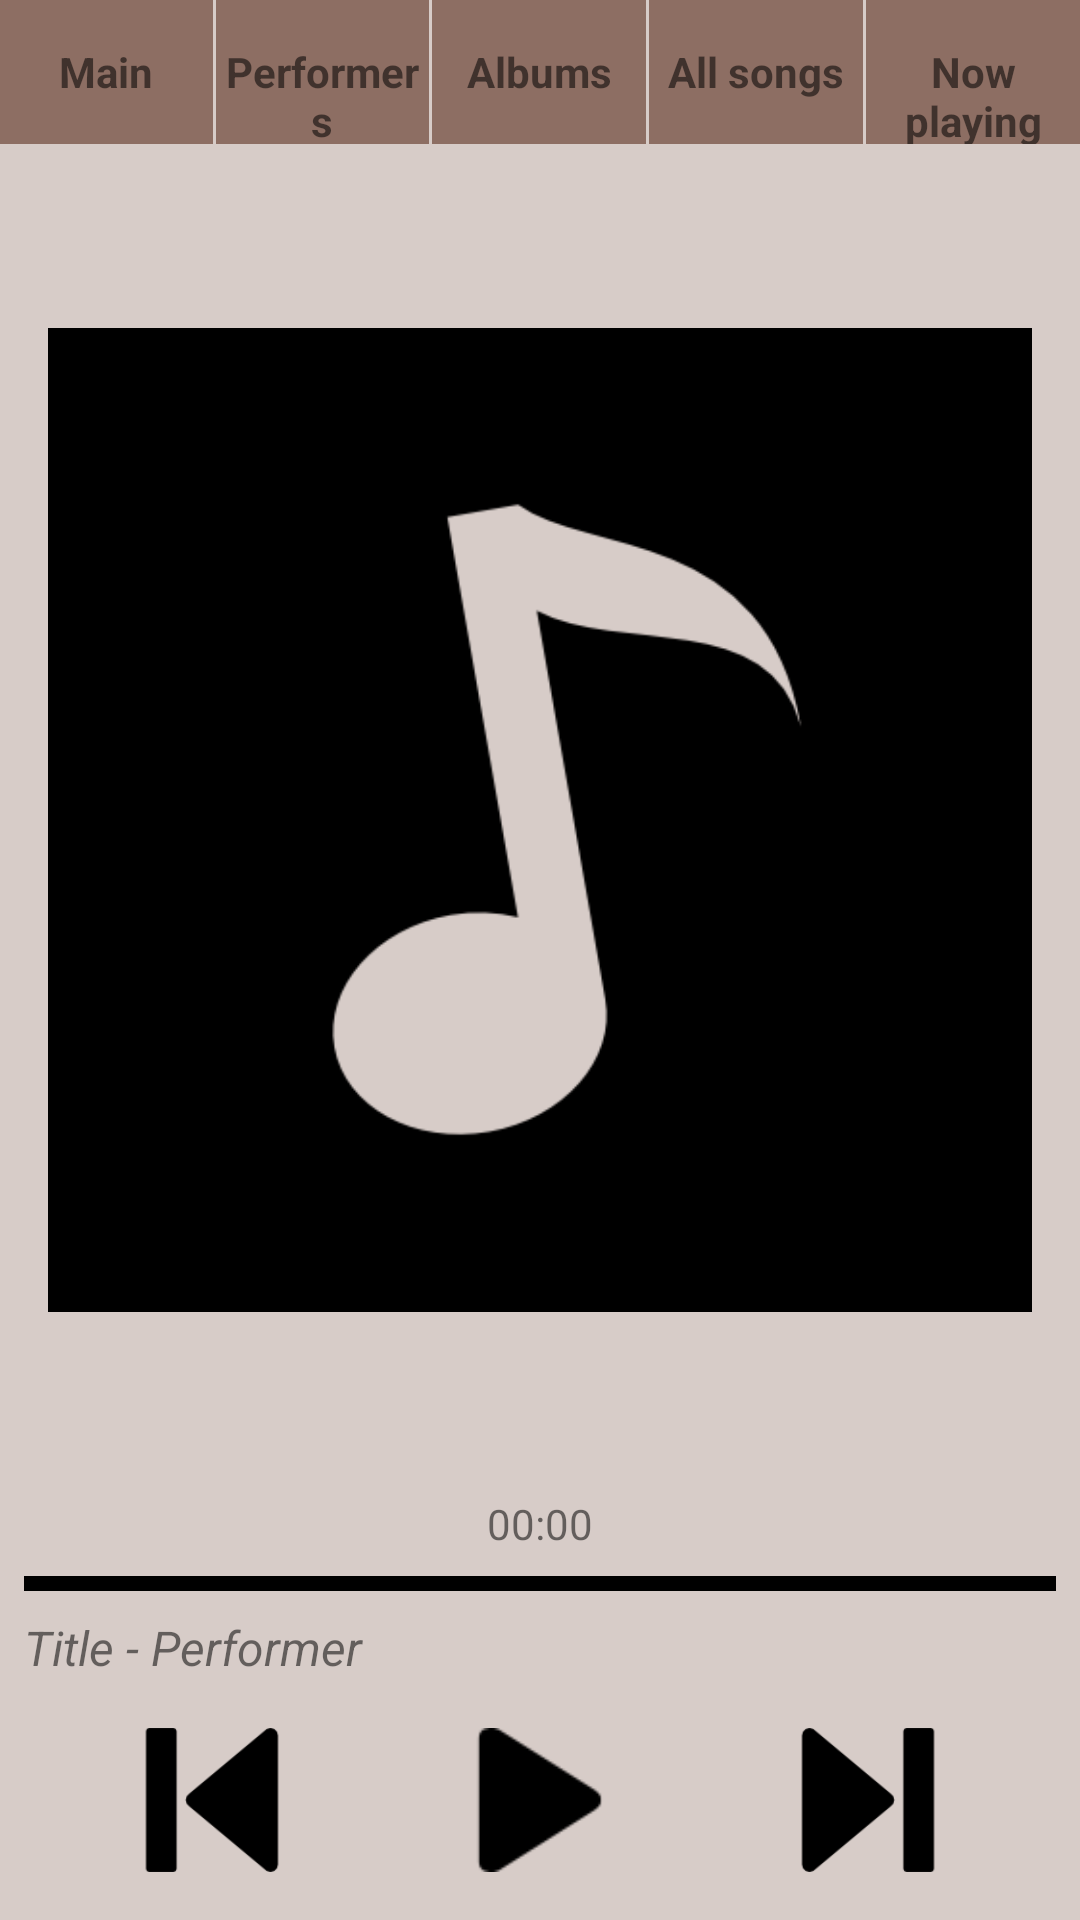

Point at icon controls on the screen. Image size 1080w x 1920h, points as (x=x, y=y).
beginning: (x=212, y=1800)
end: (x=868, y=1800)
play: (x=540, y=1800)
